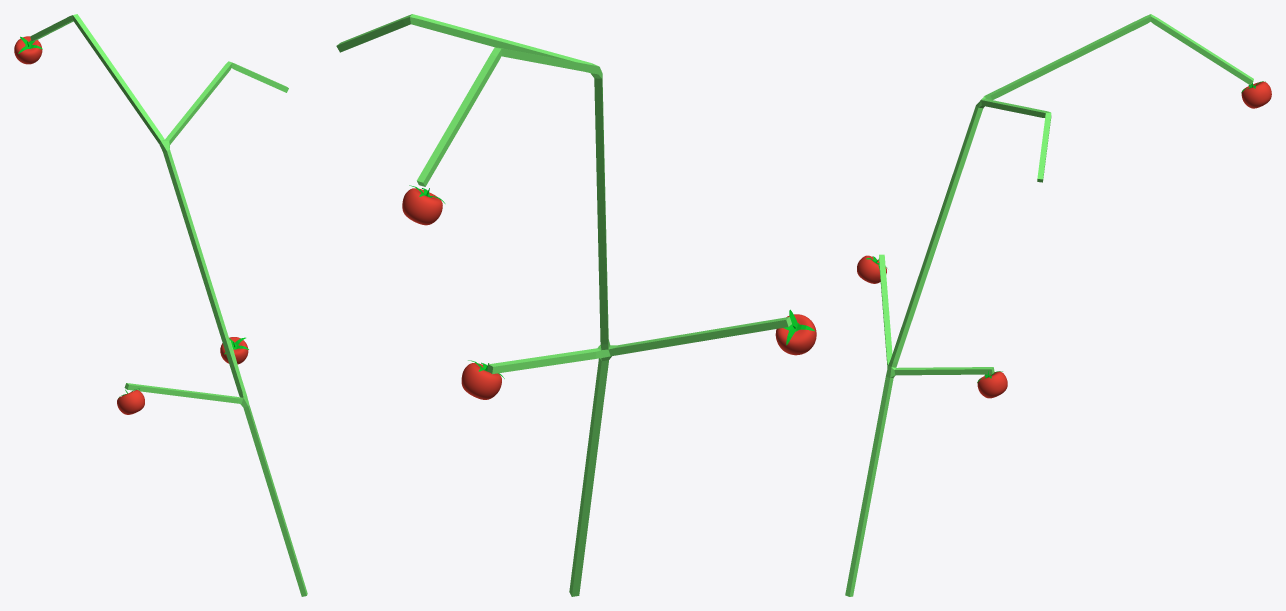
File: half_developed.fbx
3 renders of one model, left to right at view 1: azimuth 30°, elevation 25°; view 2: azimuth 150°, elevation 25°; view 3: azimuth 270°, elevation 25°, orthographic. The views are drawn at different scales.
Visible parts, largest first — view 1: half_developed; view 2: half_developed; view 3: half_developed.
Part boxes in pixels (x1=…): half_developed: x1=14, y1=14, x2=307, y2=596; half_developed: x1=336, y1=14, x2=816, y2=596; half_developed: x1=845, y1=14, x2=1271, y2=596.
Size of the model in its own units: 86.8 by 167 by 120.
